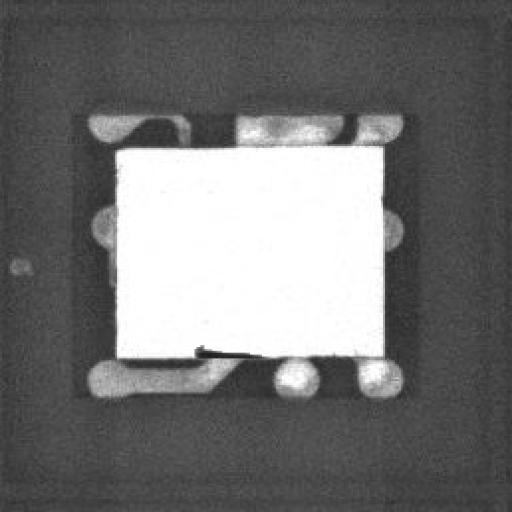DIE_BROKEN: (188, 340, 262, 356)
